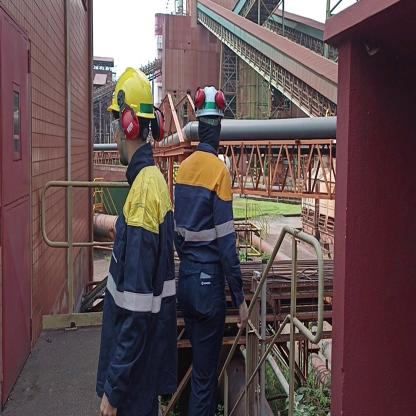Balaclava: (194, 112, 222, 149)
C_eletrica: (101, 184, 179, 399)
Capacete: (110, 67, 153, 117), (192, 82, 223, 116)
Operacional: (176, 150, 243, 304)
